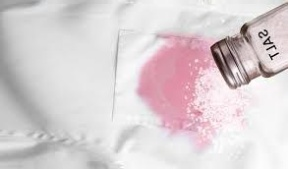wine: (144, 44, 196, 132), (164, 35, 213, 65)
